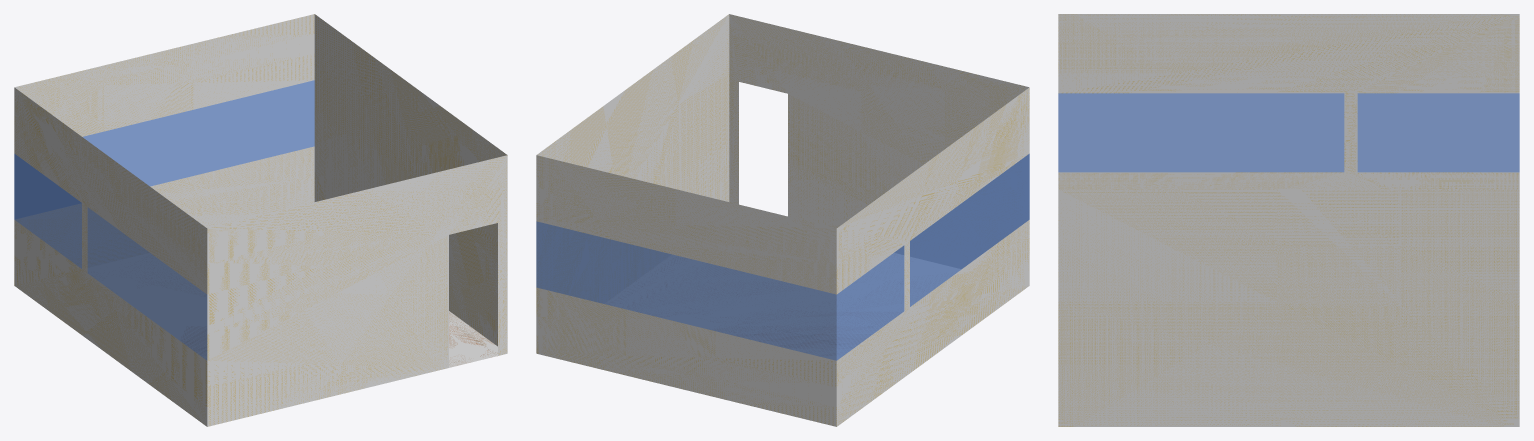
The model's file is LAB003.obj.
The picture shows the model from 3 angles, left to right: view 1: azimuth 30°, elevation 25°; view 2: azimuth 150°, elevation 25°; view 3: azimuth 270°, elevation 25°; orthographic projection. The views are drawn at different scales.
Visible parts, largest first — view 1: Mesh1 LAB003 Model; view 2: Mesh1 LAB003 Model; view 3: Mesh1 LAB003 Model.
Part boxes in pixels (x1,y1,x2,y2): Mesh1 LAB003 Model: (14,14,507,426); Mesh1 LAB003 Model: (536,14,1029,426); Mesh1 LAB003 Model: (1058,14,1519,426).
Bounding box in the file's own units: 4.74 × 2.99 × 5.27.
5 materials, 1 textured.
